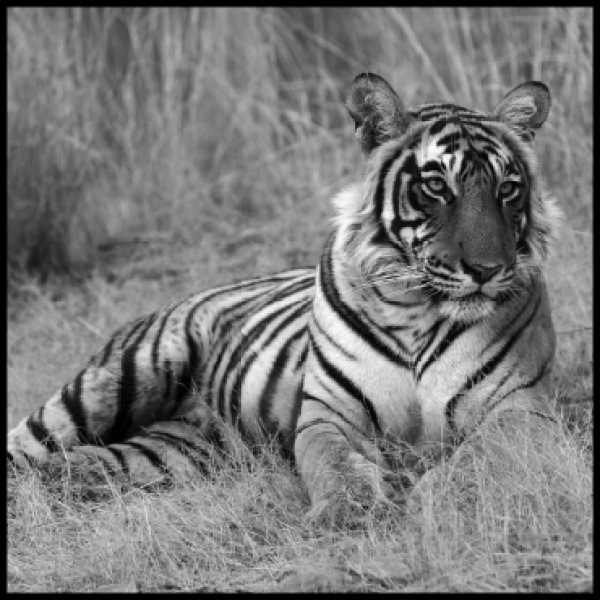Tiger: (17, 69, 572, 527)
